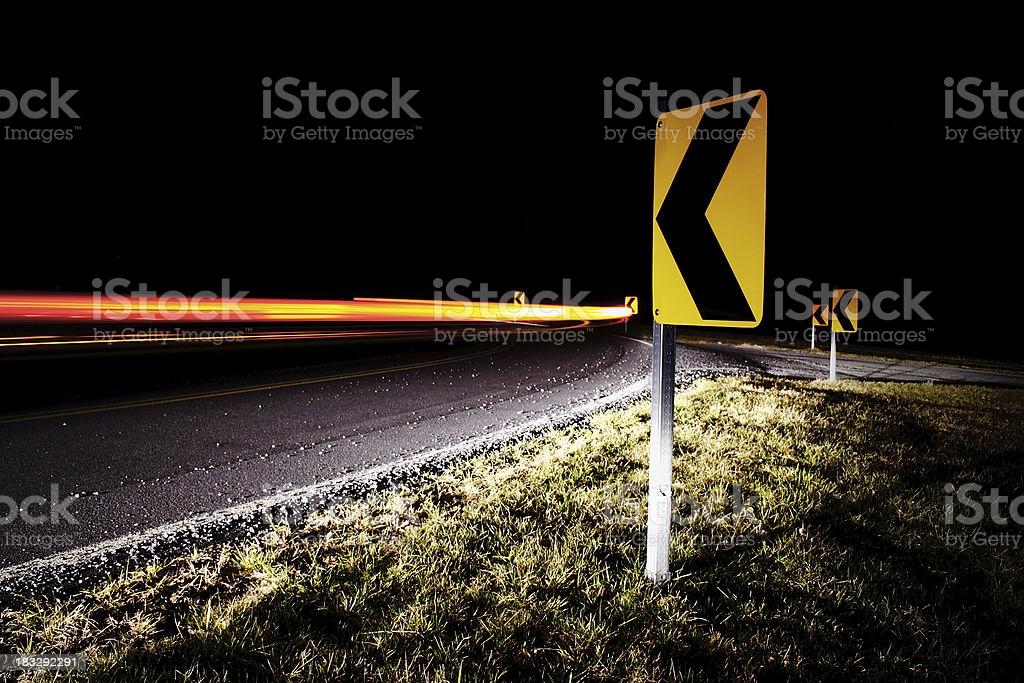left turn: (653, 101, 764, 327), (831, 289, 856, 334), (813, 304, 829, 325), (625, 297, 637, 314), (515, 292, 524, 307)
